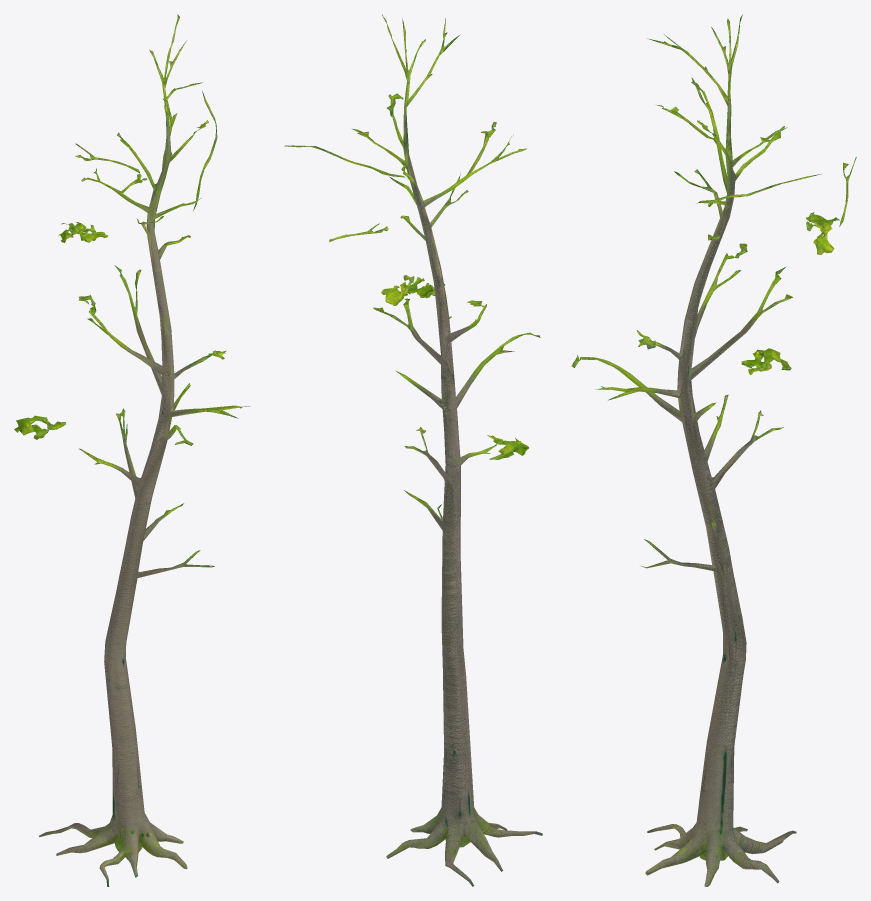
Rendered from young-beech-sapling.glb.
3 renders of one model, left to right at view 1: azimuth 30°, elevation 25°; view 2: azimuth 150°, elevation 25°; view 3: azimuth 270°, elevation 25°, orthographic. The views are drawn at different scales.
Parts seen in each view (by area): view 1: Mesh_0; view 2: Mesh_0; view 3: Mesh_0.
Boxes of the visible parts, x1,y1,x2,y2 form: Mesh_0: [14, 14, 250, 886]; Mesh_0: [284, 14, 542, 886]; Mesh_0: [571, 14, 856, 886].
Bounding box in the file's own units: 0.6843 × 2.5 × 0.734.
1 material, 1 textured.
